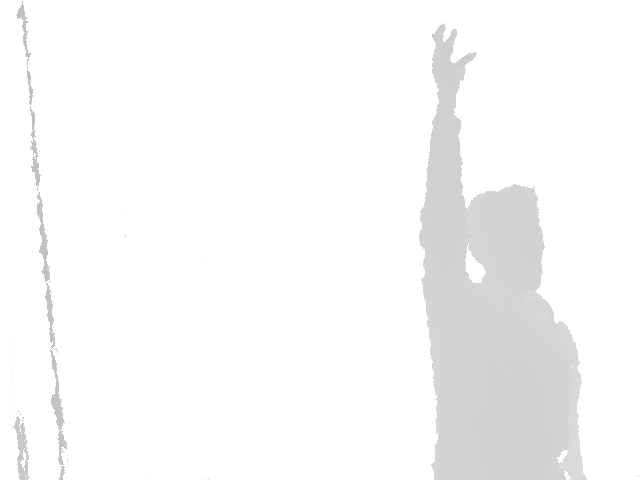hand: (432, 23, 477, 101)
head: (463, 185, 544, 290)
person: (419, 23, 589, 480)
